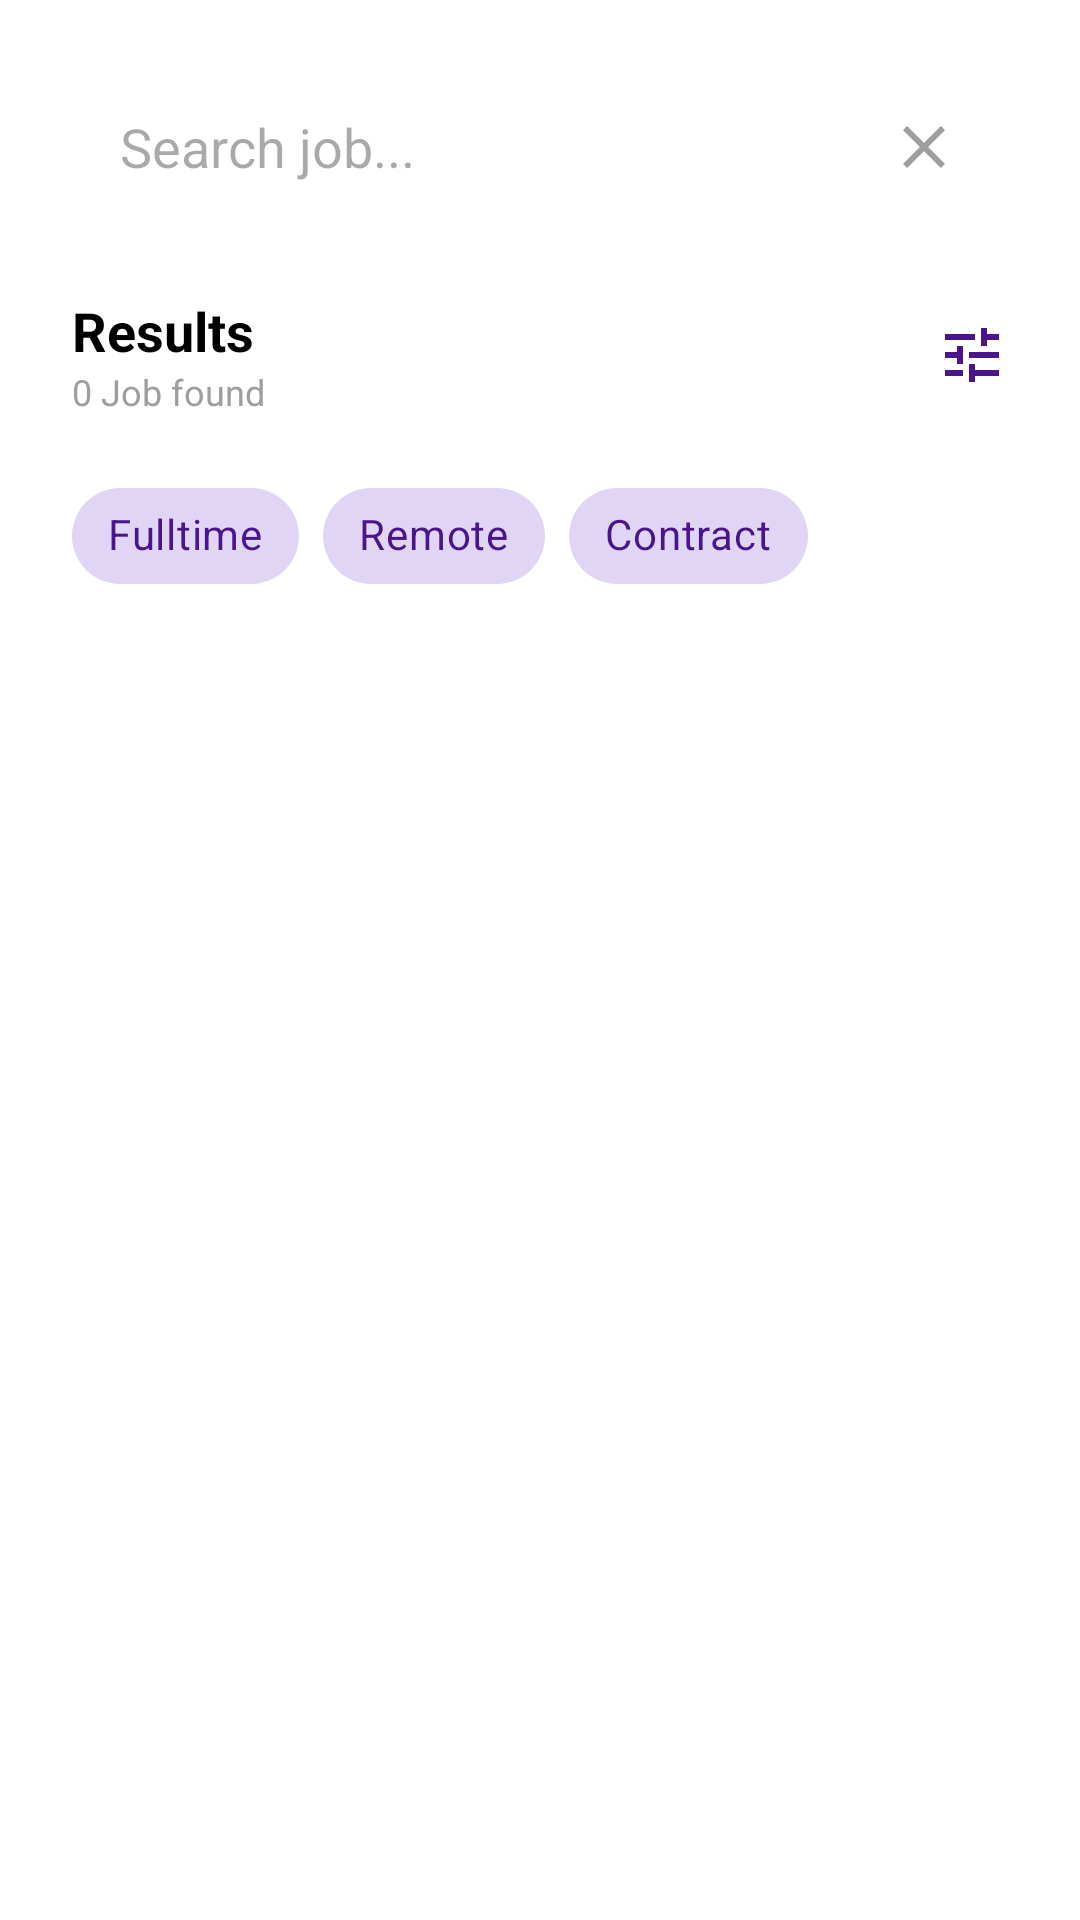

Locate icon controls on the screen. Image size 1080*1920, boxes as (x1, y1, x2, y2).
filter list: (945, 328, 999, 382)
